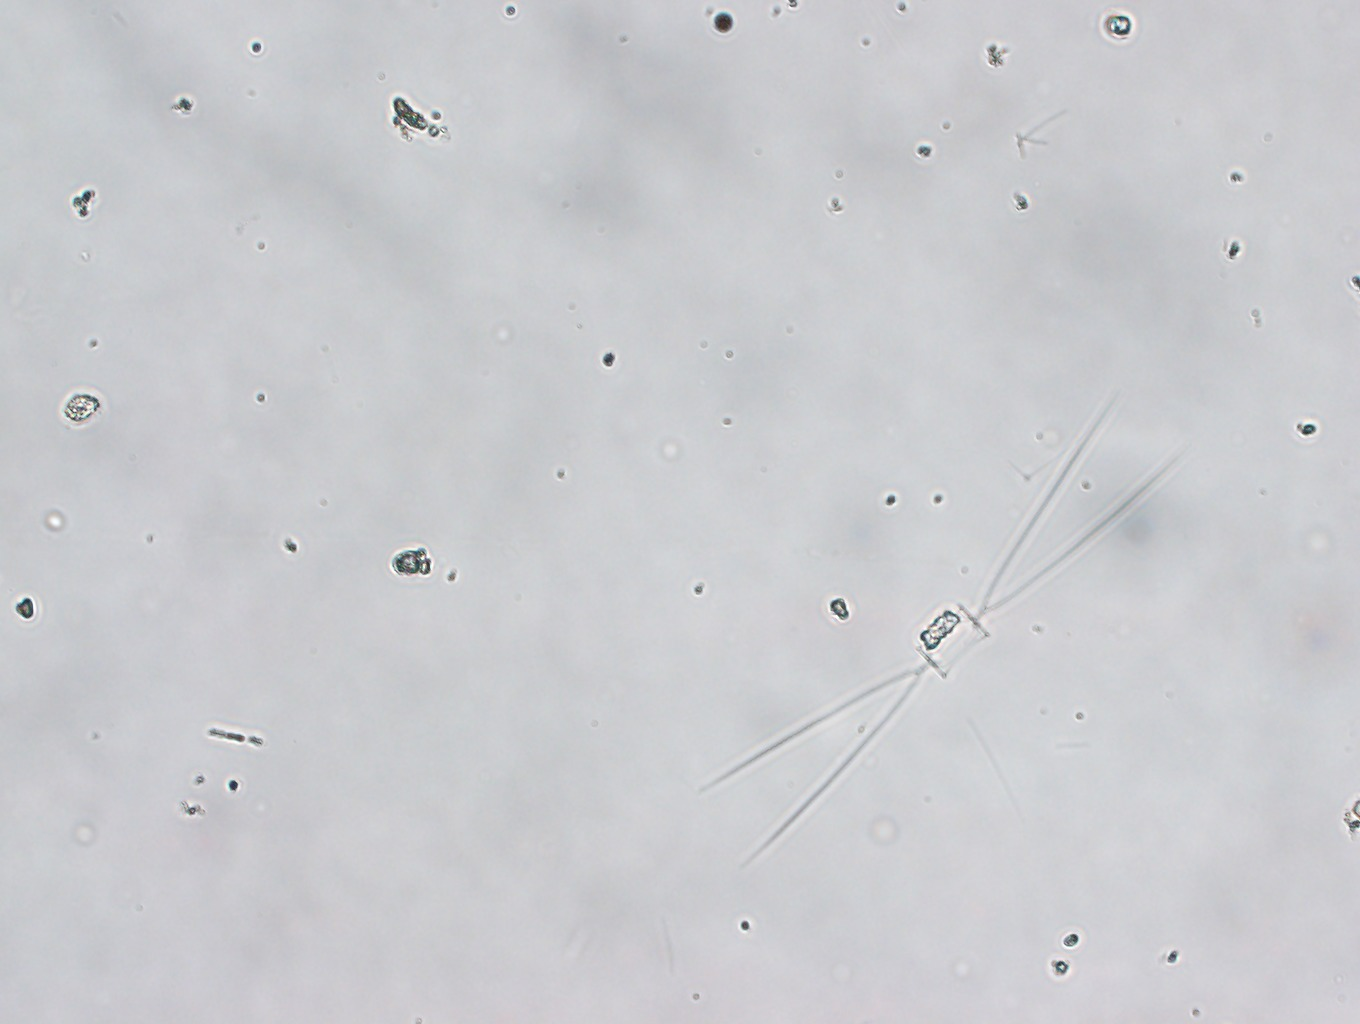chaetoceros: (679, 378, 1190, 861)
